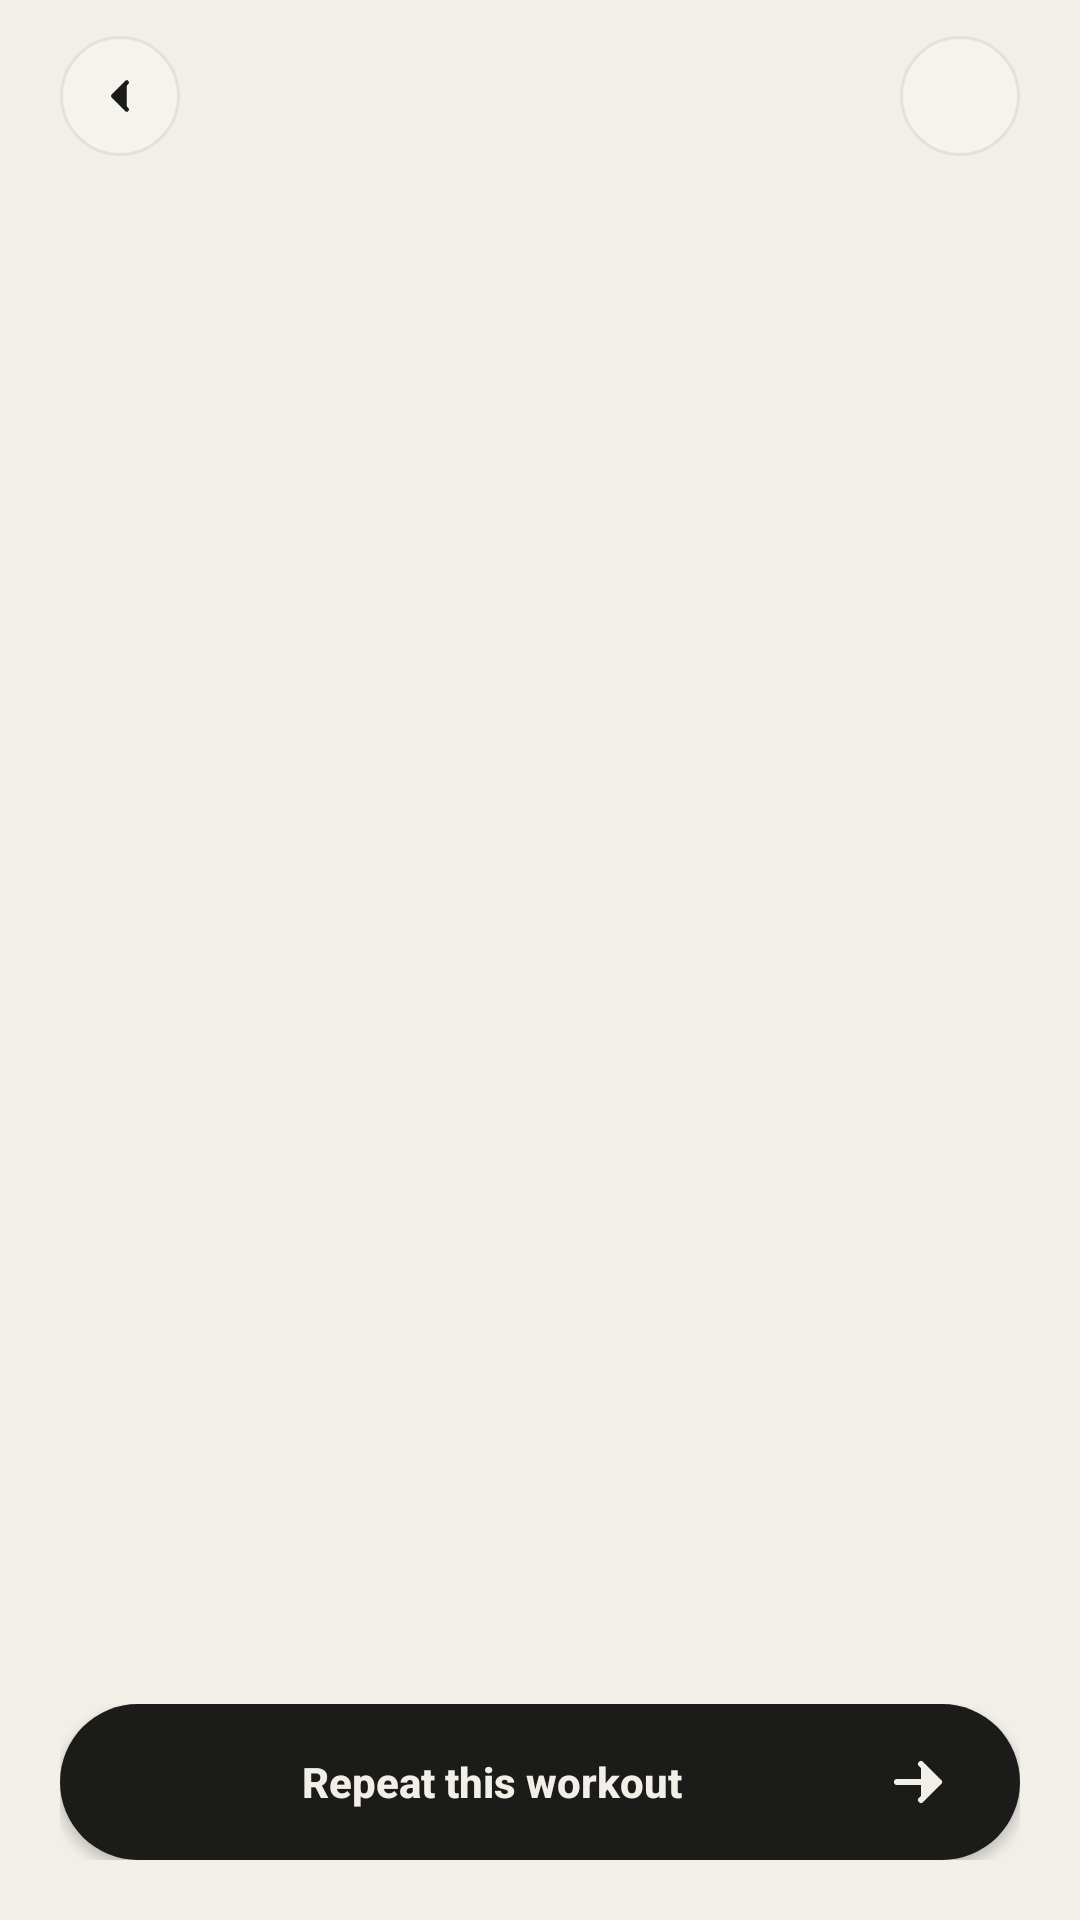

Icons on this 1080x1920 Android screen, each with the point to tap as (x,y):
Back: (120,96)
